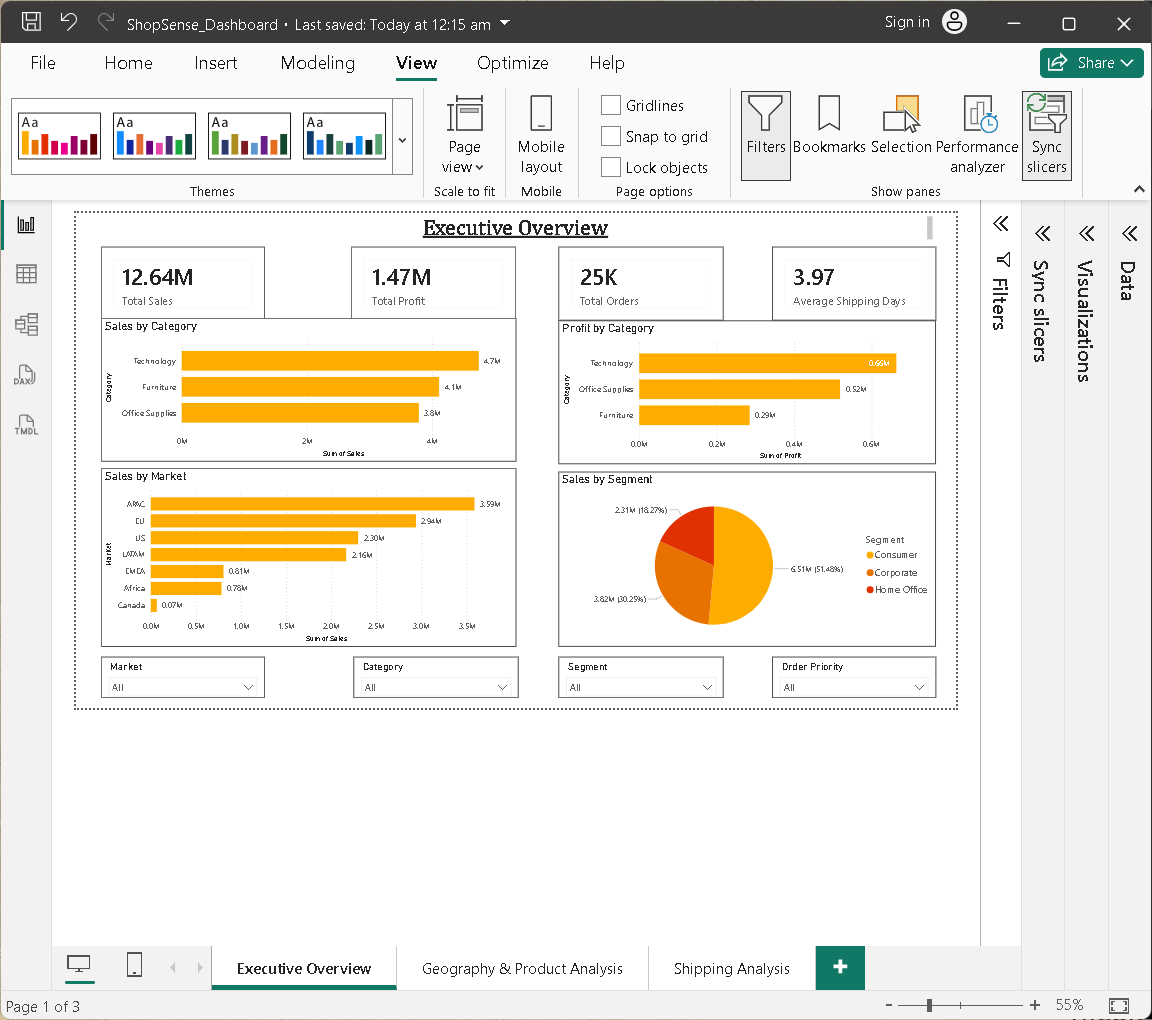

This screenshot's page, from the dashboard's own definition file:
{"tool":"powerbi","page":{"name":"Executive Overview","canvas":[1280,720],"ordinal":0},"visuals":[{"type":"cardVisual","fields":{"Data":["Global_Superstore_Cleaned.Total Sales"]},"box":[36.4,49.1,238.2,107.3],"z":0},{"type":"cardVisual","fields":{"Data":["Global_Superstore_Cleaned.Total Profit"]},"box":[400,49.1,240,107.3],"z":1000},{"type":"cardVisual","fields":{"Data":["Global_Superstore_Cleaned.Total Orders"]},"box":[701.8,49.1,240,107.3],"z":2000},{"type":"cardVisual","fields":{"Data":["Global_Superstore_Cleaned.Average Shipping Days"]},"box":[1012.7,49.1,238.2,107.3],"z":3000},{"type":"clusteredBarChart","title":"Sales by Category","fields":{"Category":["Global_Superstore_Cleaned.Category"],"Y":["Sum(Global_Superstore_Cleaned.Sales)"]},"box":[36.4,152.7,603.6,209.1],"z":4000},{"type":"clusteredBarChart","title":"Profit by Category","fields":{"Category":["Global_Superstore_Cleaned.Category"],"Y":["Sum(Global_Superstore_Cleaned.Profit)"]},"box":[701.8,156.4,549.1,209.1],"z":5000},{"type":"clusteredBarChart","title":"Sales by Market","fields":{"Category":["Global_Superstore_Cleaned.Market"],"Y":["Sum(Global_Superstore_Cleaned.Sales)"]},"box":[36.4,370.9,603.6,260],"z":6000},{"type":"pieChart","title":"Sales by Segment","fields":{"Category":["Global_Superstore_Cleaned.Segment"],"Y":["Sum(Global_Superstore_Cleaned.Sales)"]},"box":[701.8,376.4,549.1,254.5],"z":7000},{"type":"slicer","fields":{"Values":["Global_Superstore_Cleaned.Market"]},"box":[36.4,645.5,238.2,60],"z":8000},{"type":"slicer","fields":{"Values":["Global_Superstore_Cleaned.Category"]},"box":[403.6,645.5,240,60],"z":9000},{"type":"slicer","fields":{"Values":["Global_Superstore_Cleaned.Segment"]},"box":[701.8,645.5,240,60],"z":10000},{"type":"slicer","fields":{"Values":["Global_Superstore_Cleaned.Order Priority"]},"box":[1012.7,645.5,238.2,60],"z":11000},{"type":"textbox","box":[36.4,0,1214.5,45.5],"z":12000}]}

Visuals, with their boxes on the page's 1280x720 design canvas (x1, y1, x2, y2). These are canvas units, not pixel positions in the 1152x1020 screenshot, which may show the page scaled, cropped or inside an application window:
cardVisual - Global_Superstore_Cleaned.Total Sales: (x1=36, y1=49, x2=275, y2=156)
cardVisual - Global_Superstore_Cleaned.Total Profit: (x1=400, y1=49, x2=640, y2=156)
cardVisual - Global_Superstore_Cleaned.Total Orders: (x1=702, y1=49, x2=942, y2=156)
cardVisual - Global_Superstore_Cleaned.Average Shipping Days: (x1=1013, y1=49, x2=1251, y2=156)
"Sales by Category" clusteredBarChart: (x1=36, y1=153, x2=640, y2=362)
"Profit by Category" clusteredBarChart: (x1=702, y1=156, x2=1251, y2=366)
"Sales by Market" clusteredBarChart: (x1=36, y1=371, x2=640, y2=631)
"Sales by Segment" pieChart: (x1=702, y1=376, x2=1251, y2=631)
slicer - Global_Superstore_Cleaned.Market: (x1=36, y1=646, x2=275, y2=706)
slicer - Global_Superstore_Cleaned.Category: (x1=404, y1=646, x2=644, y2=706)
slicer - Global_Superstore_Cleaned.Segment: (x1=702, y1=646, x2=942, y2=706)
slicer - Global_Superstore_Cleaned.Order Priority: (x1=1013, y1=646, x2=1251, y2=706)
textbox: (x1=36, y1=0, x2=1251, y2=46)
